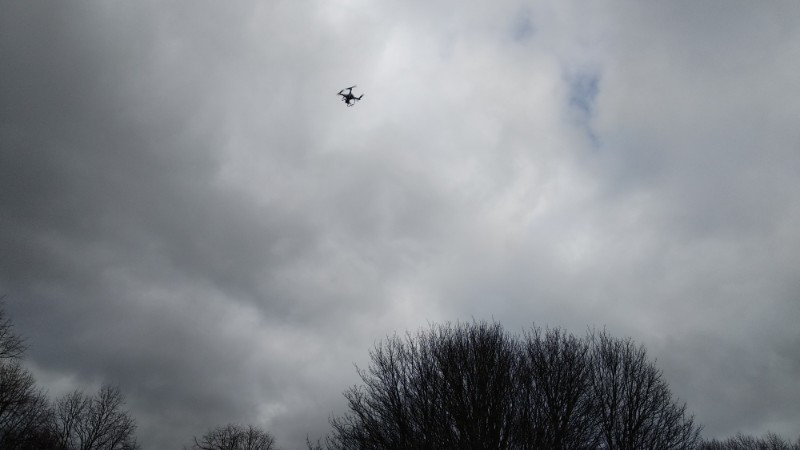drone: (336, 85, 364, 108)
